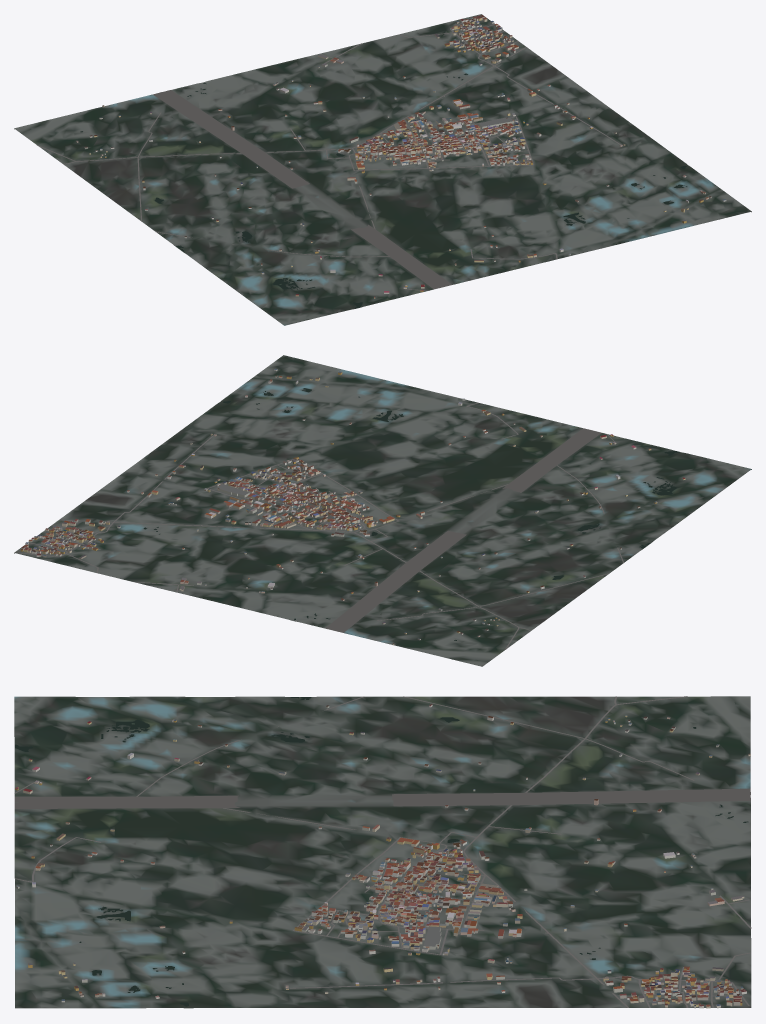
3 views of the same model, one above another, from view 1: azimuth 30°, elevation 25°; view 2: azimuth 150°, elevation 25°; view 3: azimuth 270°, elevation 25° (orthographic). The views are drawn at different scales.
Visible parts, largest first — view 1: ground, buildings, roads, water; view 2: ground, buildings, roads, water; view 3: ground, buildings, roads, water.
Boxes of the visible parts, <box> form: ground: <box>14,14,751,325</box>; buildings: <box>76,15,726,298</box>; roads: <box>37,15,620,290</box>; water: <box>80,73,687,308</box>; ground: <box>14,355,751,666</box>; buildings: <box>20,368,685,645</box>; roads: <box>17,402,623,649</box>; water: <box>143,388,679,640</box>; ground: <box>14,696,751,1008</box>; buildings: <box>15,704,750,1008</box>; roads: <box>14,696,751,1007</box>; water: <box>15,697,748,1006</box>.
Size of the model in its own units: 1406 by 14.59 by 1405.
